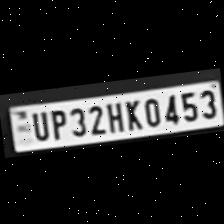0: (138, 92, 162, 126)
2: (83, 99, 106, 134)
3: (64, 101, 86, 136), (196, 84, 218, 118)
4: (158, 88, 180, 124)
5: (175, 87, 198, 121)
H: (102, 96, 124, 132)
K: (120, 94, 142, 129)
P: (46, 105, 68, 139)
U: (27, 106, 50, 140)
